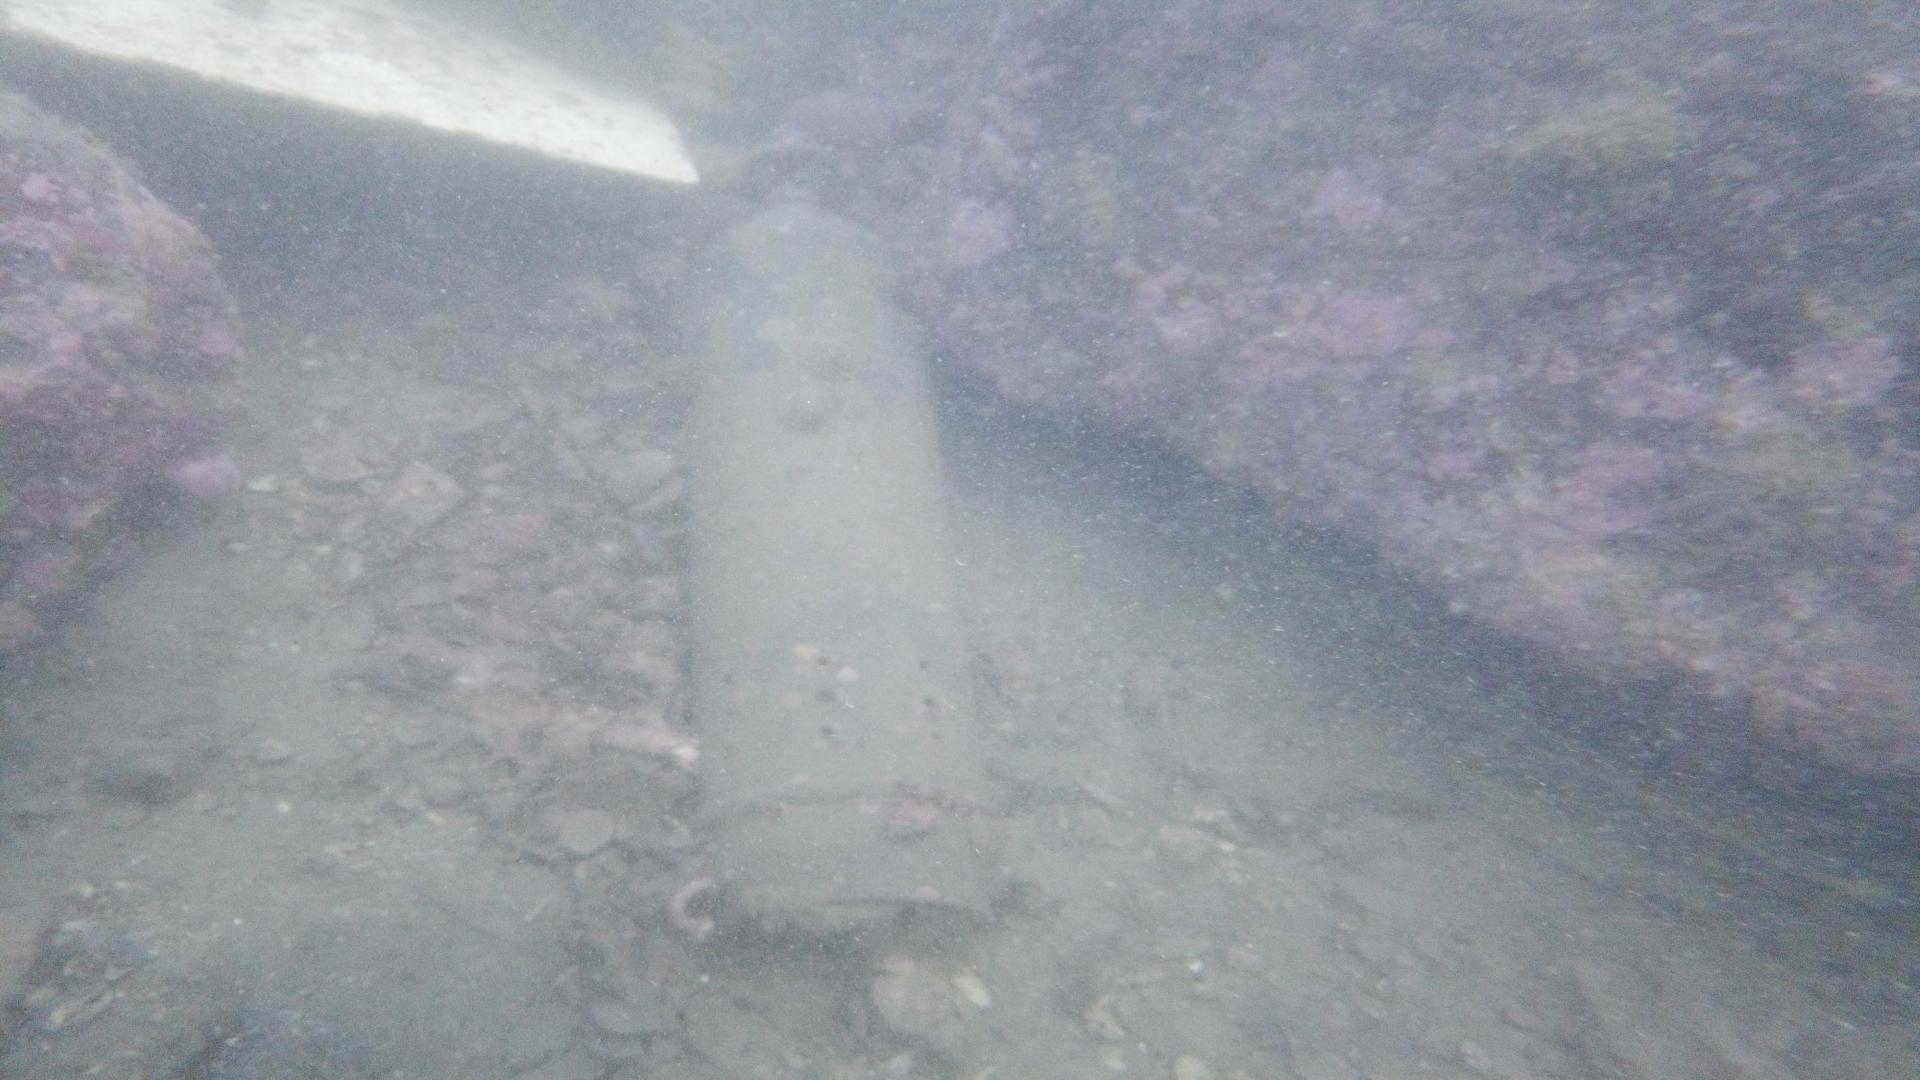eel fish trap: (676, 117, 992, 951)
